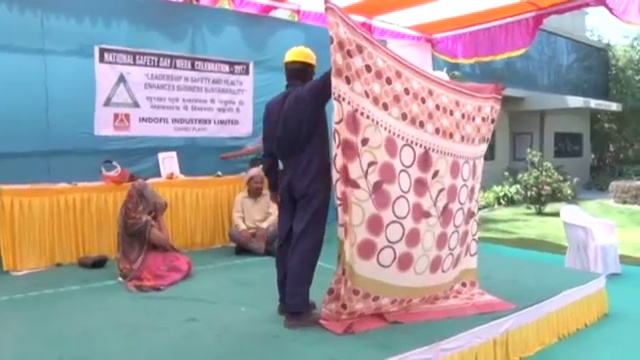helmet: (283, 44, 318, 66)
helmet_off: (129, 181, 157, 211), (246, 167, 265, 198)
helmet_on: (279, 42, 318, 86)
person: (256, 40, 338, 329), (113, 178, 190, 293), (227, 166, 280, 254)
